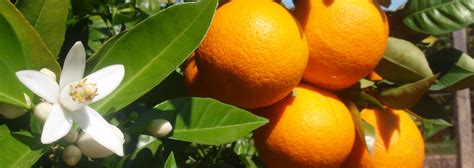orange: (189, 1, 311, 112), (252, 83, 356, 168), (300, 1, 393, 93)
